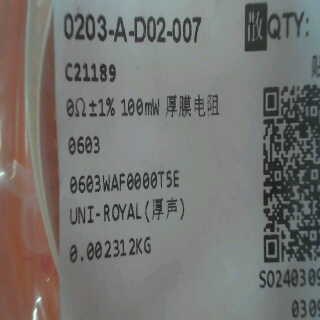0R: (62, 94, 116, 160)
